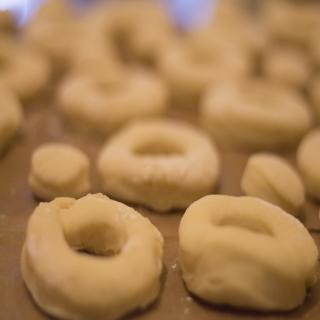Doughnut: (18, 193, 166, 319)
